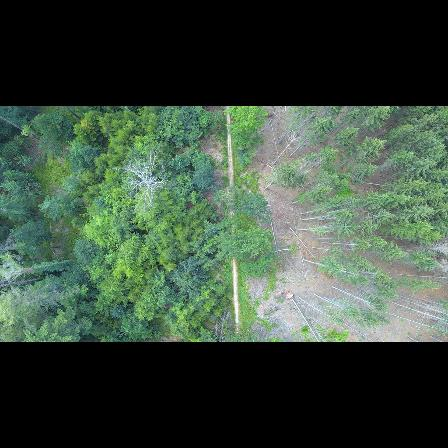Dead: (114, 161, 168, 211)
